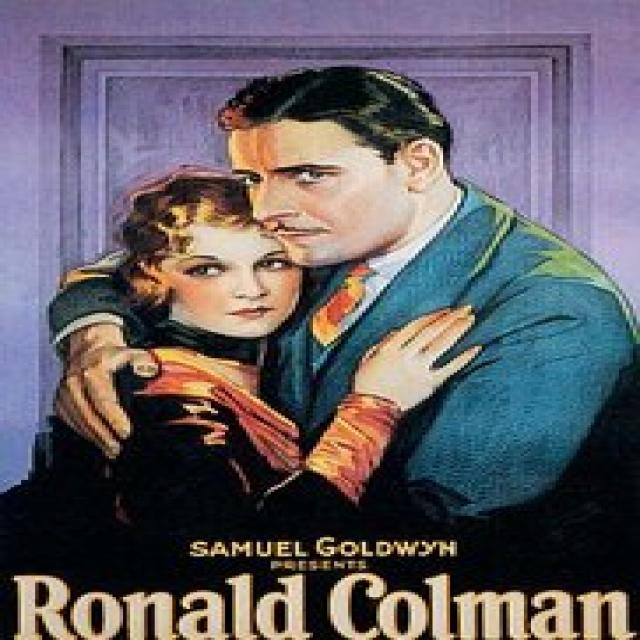movie-judul: (10, 528, 638, 640)
picture: (5, 5, 622, 537)
